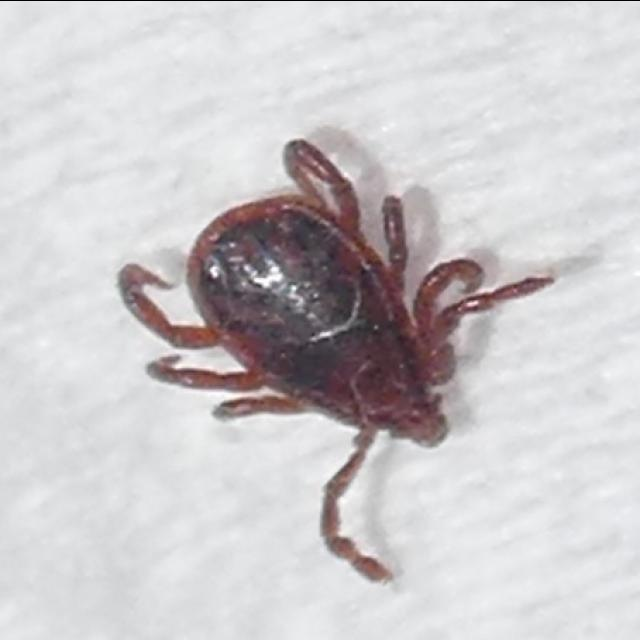Rhipicephalus Sanguineus-M: (114, 136, 554, 582)
